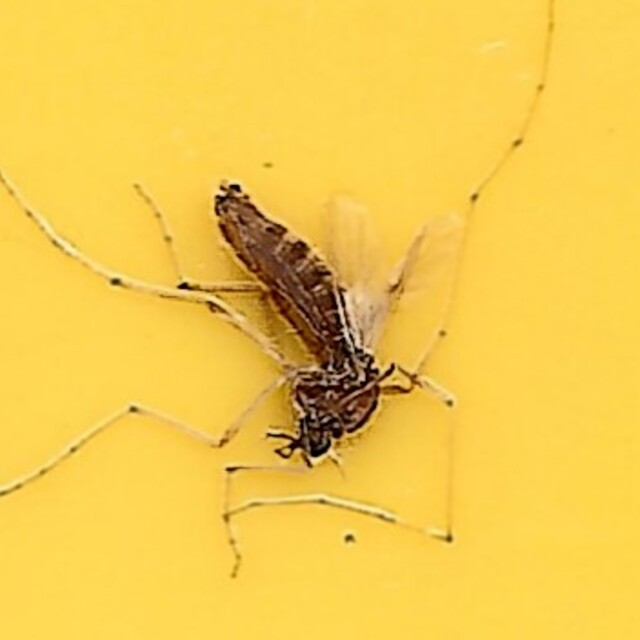Nematocera: (182, 171, 458, 469)
